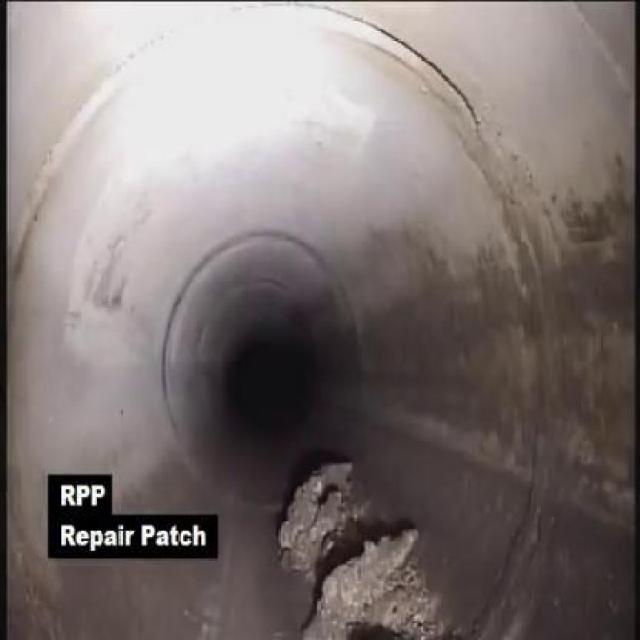Debris: (303, 526, 426, 639), (281, 452, 354, 560)
